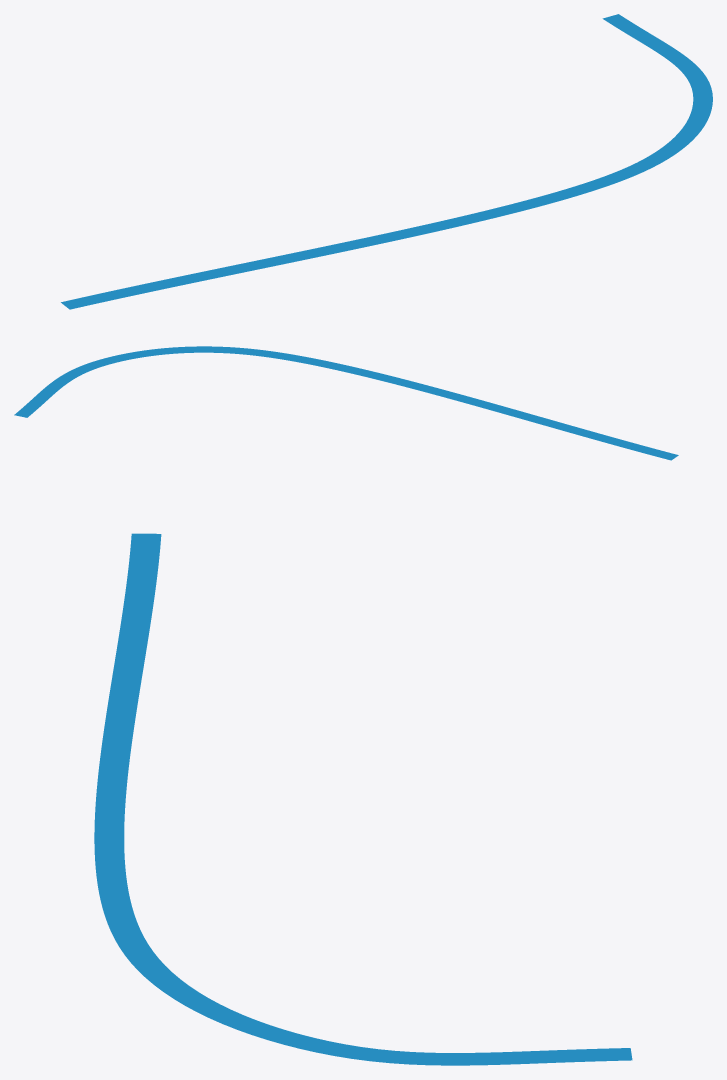
The model's file is guide.glb.
The picture shows the model from 3 angles, top to bottom: view 1: azimuth 30°, elevation 25°; view 2: azimuth 150°, elevation 25°; view 3: azimuth 270°, elevation 25°; orthographic projection. The views are drawn at different scales.
Parts seen in each view (by area): view 1: static; view 2: static; view 3: static.
Boxes of the visible parts, <box> form: static: <box>61,14,712,309</box>; static: <box>14,346,678,460</box>; static: <box>94,533,632,1065</box>.
Bounding box in the file's own units: 14.49 × 0 × 5.79.
